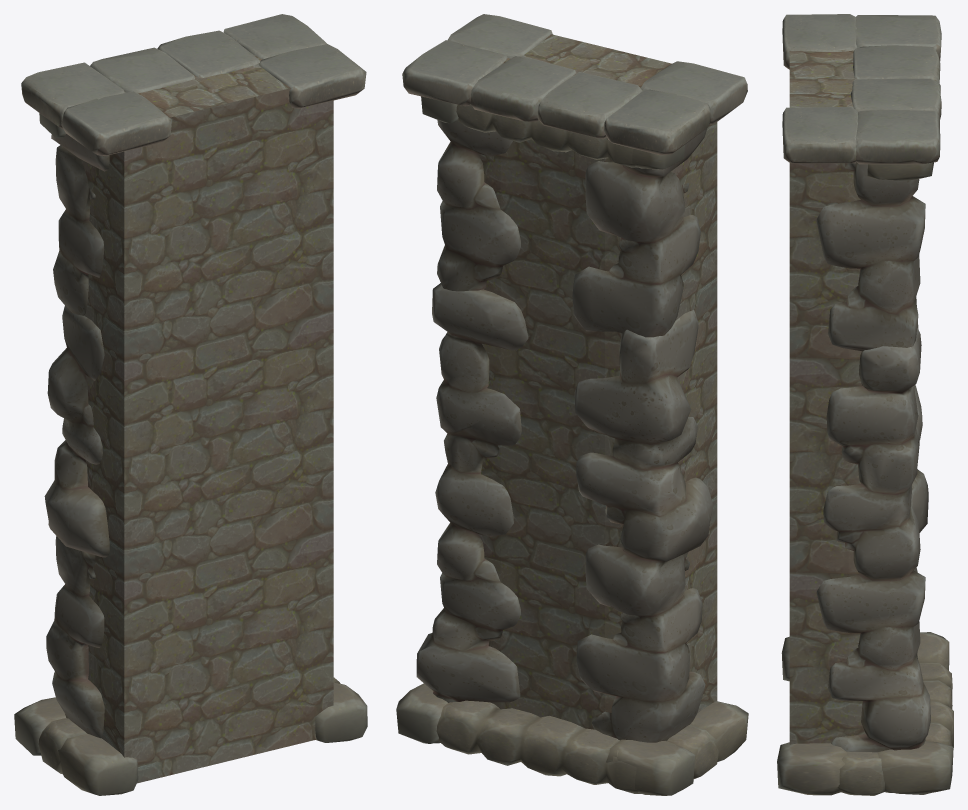
The model's file is SM_FW01_Ruins_Int_Pillar_A_2x6_Half_01.fbx.
3 views of the same model, side by side, from view 1: azimuth 30°, elevation 25°; view 2: azimuth 150°, elevation 25°; view 3: azimuth 270°, elevation 25° (orthographic). The views are drawn at different scales.
Visible parts, largest first — view 1: SM_FW01_Ruins_Int_Pillar_A_2x6_Half_01, SM_FW01_Ruins_Int_Pillar_A_2x6_Half_01_LOD0; view 2: SM_FW01_Ruins_Int_Pillar_A_2x6_Half_01_LOD0, SM_FW01_Ruins_Int_Pillar_A_2x6_Half_01; view 3: SM_FW01_Ruins_Int_Pillar_A_2x6_Half_01_LOD0, SM_FW01_Ruins_Int_Pillar_A_2x6_Half_01.
Boxes of the visible parts, x1,y1,x2,y2 form: SM_FW01_Ruins_Int_Pillar_A_2x6_Half_01: (80,53,333,783); SM_FW01_Ruins_Int_Pillar_A_2x6_Half_01_LOD0: (14,14,367,795); SM_FW01_Ruins_Int_Pillar_A_2x6_Half_01_LOD0: (396,14,748,795); SM_FW01_Ruins_Int_Pillar_A_2x6_Half_01: (478,34,717,729); SM_FW01_Ruins_Int_Pillar_A_2x6_Half_01_LOD0: (777,14,953,795); SM_FW01_Ruins_Int_Pillar_A_2x6_Half_01: (789,46,865,744).
Size of what is drawn, in the model's own units: 2.68 by 6.13 by 1.49.
